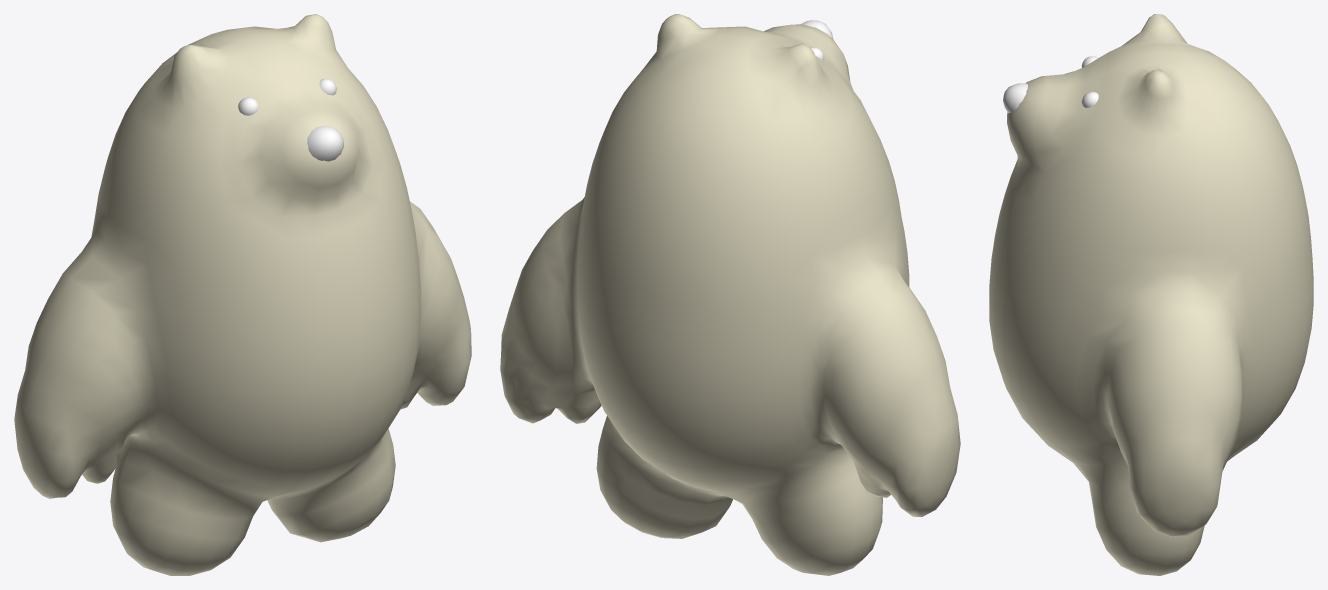
The model's file is Polar Bear.fbx.
3 views of the same model, side by side, from view 1: azimuth 30°, elevation 25°; view 2: azimuth 150°, elevation 25°; view 3: azimuth 270°, elevation 25° (orthographic). The views are drawn at different scales.
Visible parts, largest first — view 1: Retopo_Sphere.001; view 2: Retopo_Sphere.001; view 3: Retopo_Sphere.001.
Boxes of the visible parts, x1,y1,x2,y2 form: Retopo_Sphere.001: [14, 14, 471, 575]; Retopo_Sphere.001: [500, 14, 960, 575]; Retopo_Sphere.001: [989, 14, 1313, 575].
Bounding box in the file's own units: 480 × 546 × 326.
